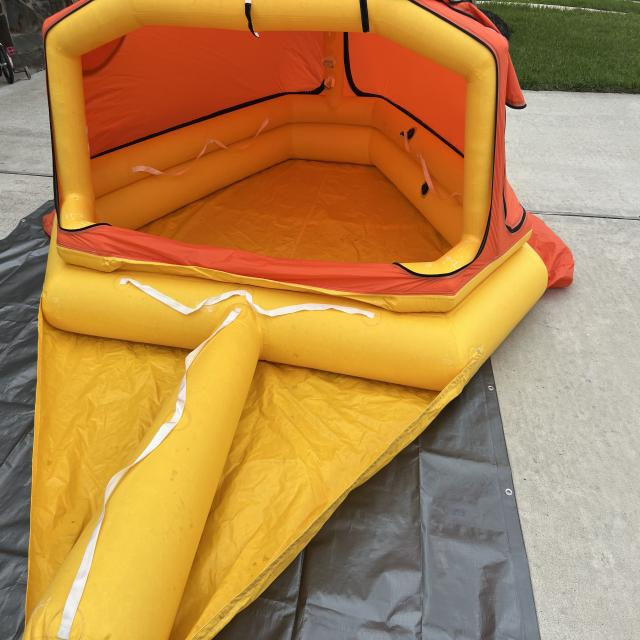Multi-person_life_raft: (20, 2, 574, 639)
